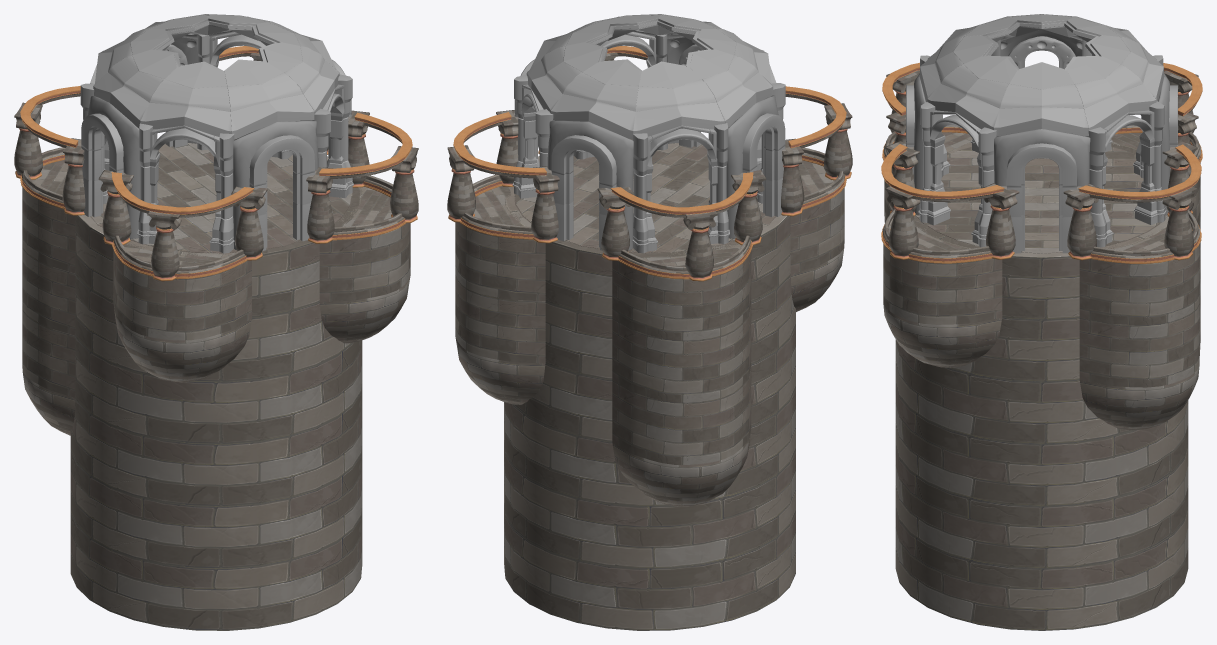
Rendered from tower_sample_size_check.fbx.
3 views of the same model, side by side, from view 1: azimuth 30°, elevation 25°; view 2: azimuth 150°, elevation 25°; view 3: azimuth 270°, elevation 25° (orthographic).
Parts seen in each view (by area): view 1: polySurface469, tower_base_round_large5, tower_base_round_large4, tower_base_round_large3, tower_base_round_large2, tower_base_round_large1, polySurface933polySurface920polySurface919, tower_base_round_large, SM_Bld_Castle_Floor_Stone_73, polySurface933polySurface920polySurface913, polySurface997, polySurface933polySurface920polySurface917 (+17 smaller); view 2: polySurface469, tower_base_round_large5, tower_base_round_large4, tower_base_round_large3, polySurface933polySurface920polySurface915, polySurface933polySurface920polySurface917, polySurface933polySurface920polySurface918, tower_base_round_large, tower_base_round_large2, SM_Bld_Castle_Floor_Stone_73, tower_base_round_large1, polySurface933polySurface920polySurface914 (+18 smaller); view 3: polySurface469, tower_base_round_large5, tower_base_round_large4, tower_base_round_large3, tower_base_round_large2, SM_Bld_Castle_Floor_Stone_73, polySurface933polySurface920polySurface914, polySurface933polySurface920polySurface916, polySurface933polySurface920polySurface913, tower_base_round_large, tower_base_round_large1, polySurface971 (+20 smaller).
Part boxes in pixels (x1,y1,x2,y2): polySurface469: (80, 14, 353, 253); tower_base_round_large5: (70, 505, 362, 630); tower_base_round_large4: (70, 442, 362, 568); tower_base_round_large3: (70, 380, 362, 506); tower_base_round_large2: (75, 336, 362, 444); tower_base_round_large1: (75, 274, 351, 382); polySurface933polySurface920polySurface919: (113, 250, 251, 340); tower_base_round_large: (75, 139, 362, 317); SM_Bld_Castle_Floor_Stone_73: (91, 143, 351, 253); polySurface933polySurface920polySurface913: (319, 223, 410, 301); polySurface997: (113, 304, 251, 382); polySurface933polySurface920polySurface917: (22, 244, 75, 335); polySurface469: (512, 14, 785, 253); tower_base_round_large5: (504, 503, 795, 630); tower_base_round_large4: (504, 440, 795, 568); tower_base_round_large3: (504, 387, 795, 506); polySurface933polySurface920polySurface915: (612, 366, 751, 464); polySurface933polySurface920polySurface917: (612, 304, 751, 402); polySurface933polySurface920polySurface918: (612, 251, 751, 340); tower_base_round_large: (504, 156, 790, 317); tower_base_round_large2: (513, 325, 795, 442); SM_Bld_Castle_Floor_Stone_73: (515, 139, 775, 253); tower_base_round_large1: (545, 275, 795, 379); polySurface933polySurface920polySurface914: (455, 275, 545, 363); polySurface469: (906, 14, 1177, 253); tower_base_round_large5: (895, 507, 1188, 630); tower_base_round_large4: (895, 445, 1188, 568); tower_base_round_large3: (895, 383, 1188, 506); tower_base_round_large2: (895, 339, 1133, 444); SM_Bld_Castle_Floor_Stone_73: (915, 147, 1167, 253); polySurface933polySurface920polySurface914: (1079, 303, 1199, 387); polySurface933polySurface920polySurface916: (1079, 244, 1199, 325); polySurface933polySurface920polySurface913: (883, 244, 1002, 324); tower_base_round_large: (914, 142, 1168, 319); tower_base_round_large1: (949, 317, 1079, 382); polySurface971: (1079, 365, 1199, 430).
Bounding box in the file's own units: 23.44 × 42.33 × 23.44.
